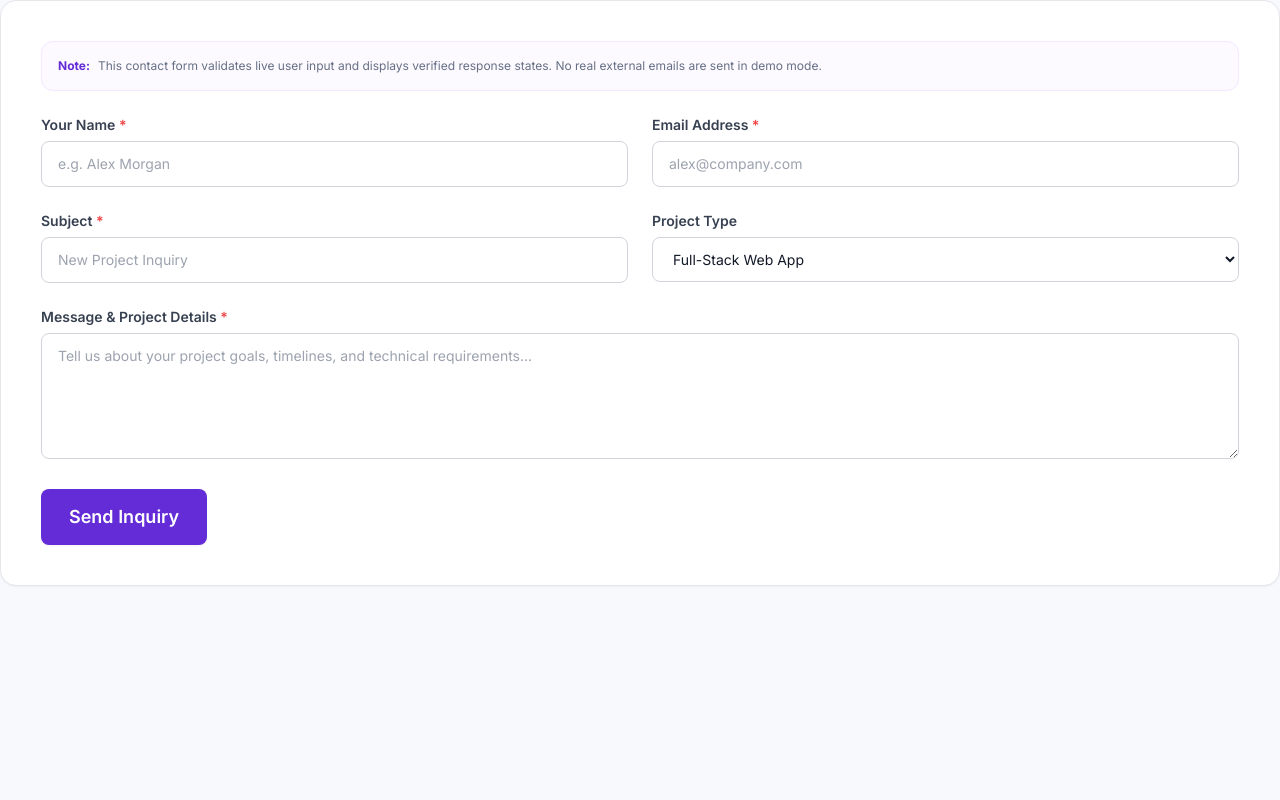
Scenario: Contact Form Validation & Simulation › validates email format properly
In the field labelled "Email Address *": (946, 164) [652, 141, 1239, 187], type "not-an-email"
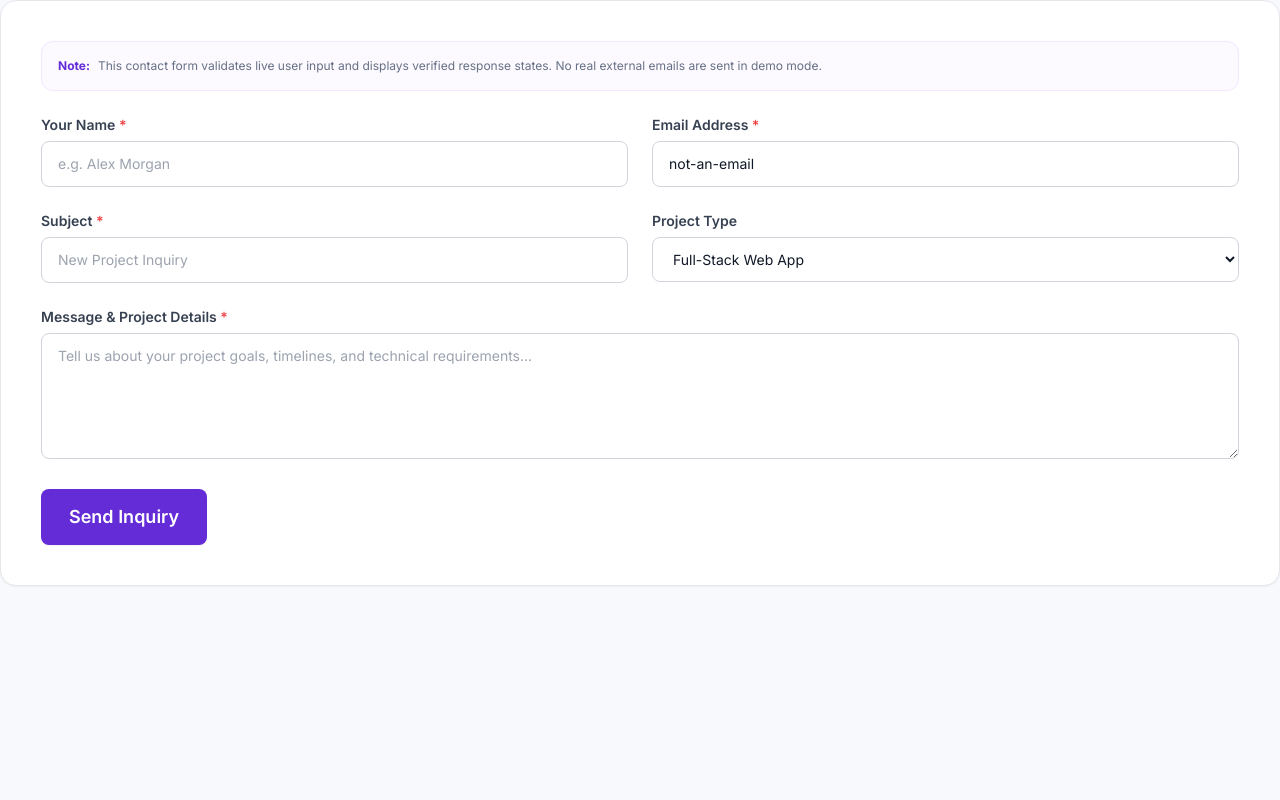
Click the button "Send Inquiry": (124, 517) [41, 489, 207, 545]
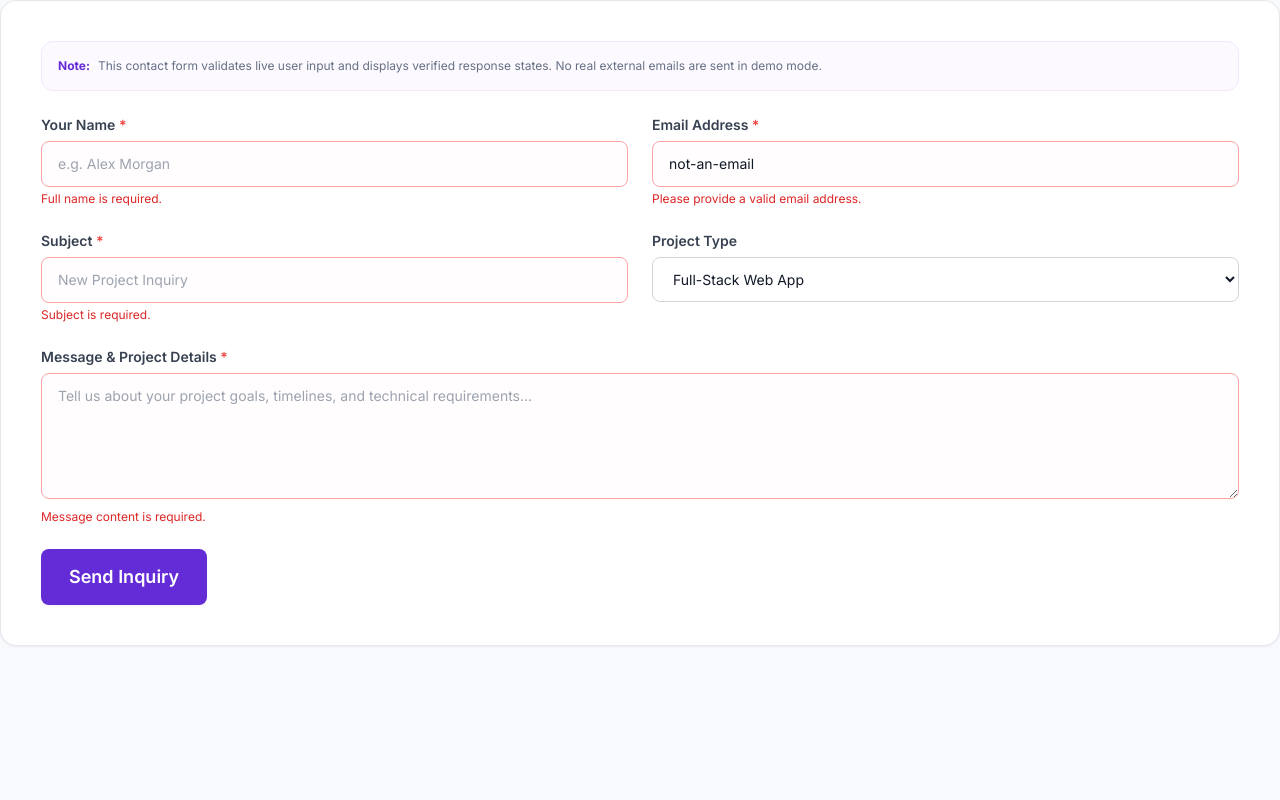
Now the text "Please provide a valid email address." is shown, box [652, 191, 862, 206]
